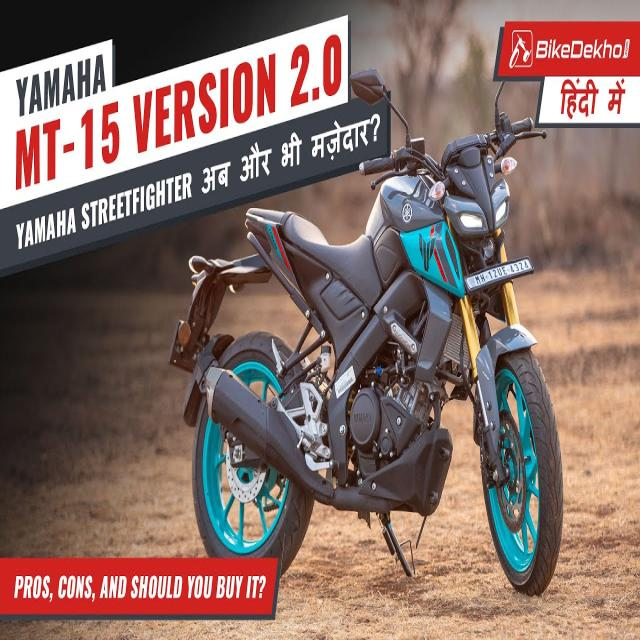Bike: (169, 68, 562, 615)
